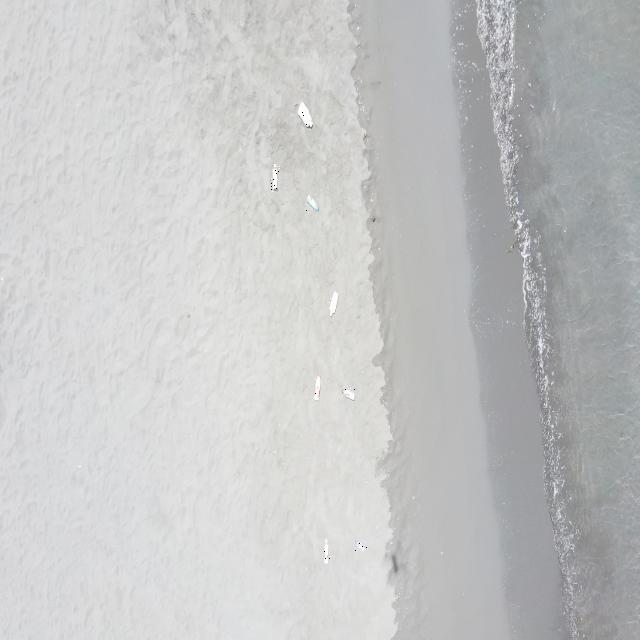Garbage: (296, 101, 312, 127), (271, 163, 279, 190), (307, 195, 318, 211), (328, 291, 335, 316), (313, 375, 320, 399), (353, 540, 367, 550), (343, 387, 353, 400), (324, 537, 328, 563)
